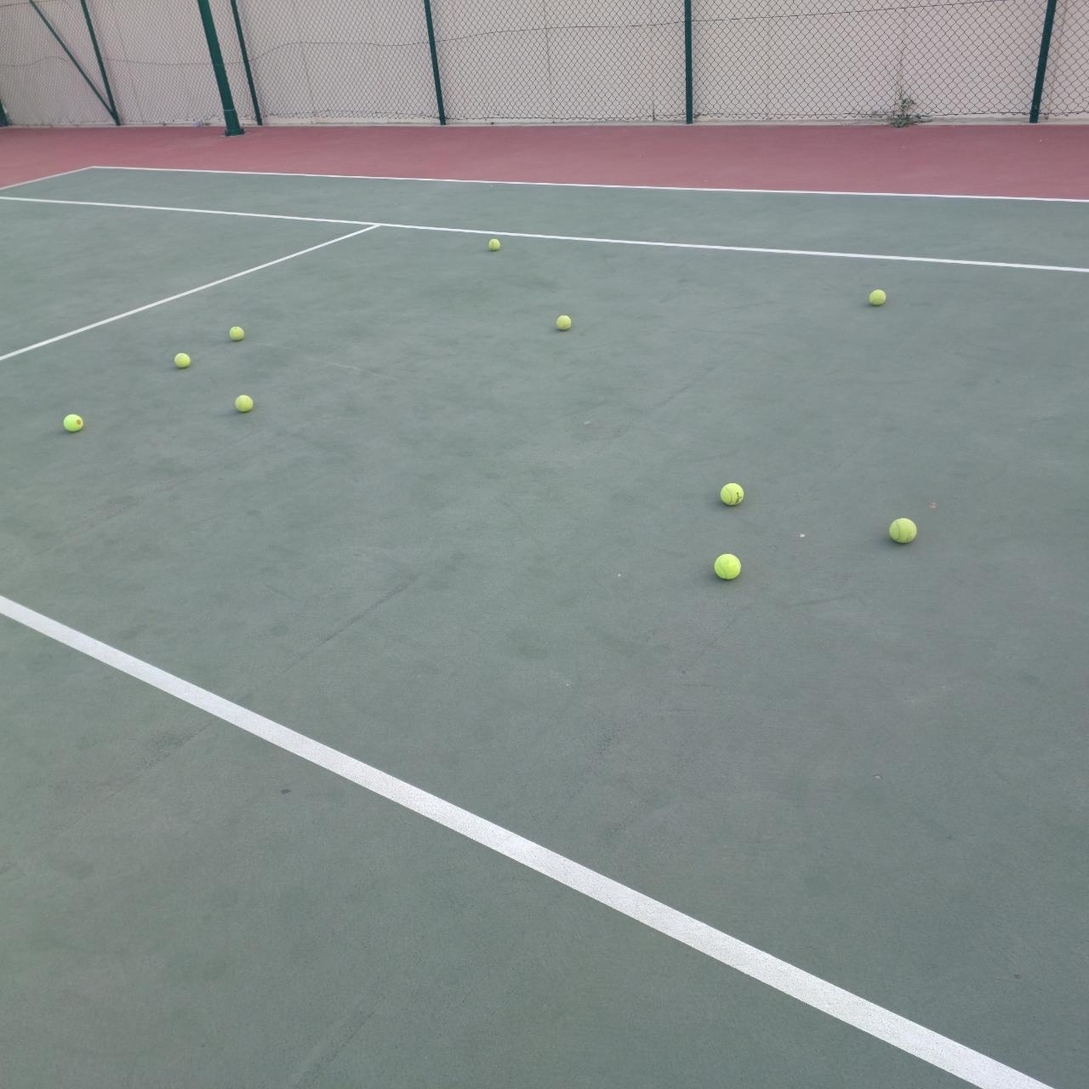tennis-ball: (712, 550, 741, 580), (887, 515, 917, 544), (718, 481, 744, 505), (61, 411, 83, 432), (233, 392, 254, 412), (867, 287, 887, 305), (173, 350, 191, 368), (554, 312, 572, 330), (228, 324, 244, 341), (487, 236, 500, 251)
